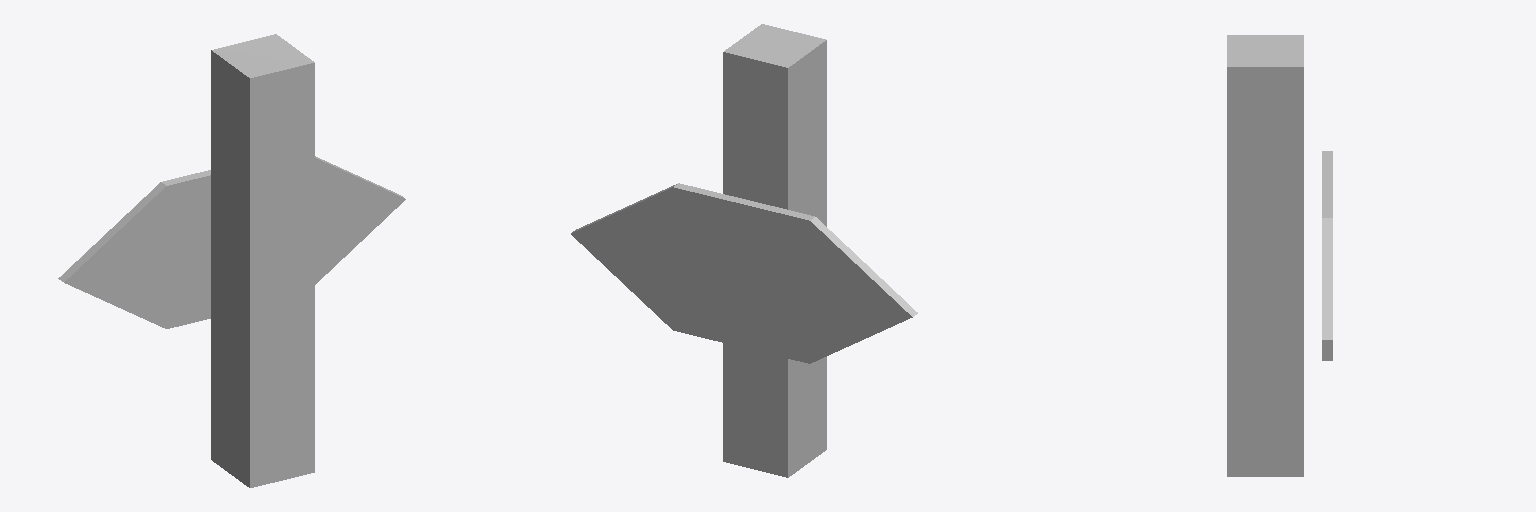
The model's file is lms_post_wood_55.obj.
The picture shows the model from 3 angles: view 1: azimuth 30°, elevation 25°; view 2: azimuth 150°, elevation 25°; view 3: azimuth 270°, elevation 25°; orthographic projection.
Parts seen in each view (by area): view 1: Wood_55_plate_Cube.039; view 2: Wood_55_plate_Cube.039; view 3: Wood_55_plate_Cube.039.
Boxes of the visible parts, x1,y1,x2,y2 form: Wood_55_plate_Cube.039: [58, 34, 405, 487]; Wood_55_plate_Cube.039: [571, 24, 917, 477]; Wood_55_plate_Cube.039: [1227, 35, 1332, 476].
Bounding box in the file's own units: 0.875 × 1 × 0.2344.